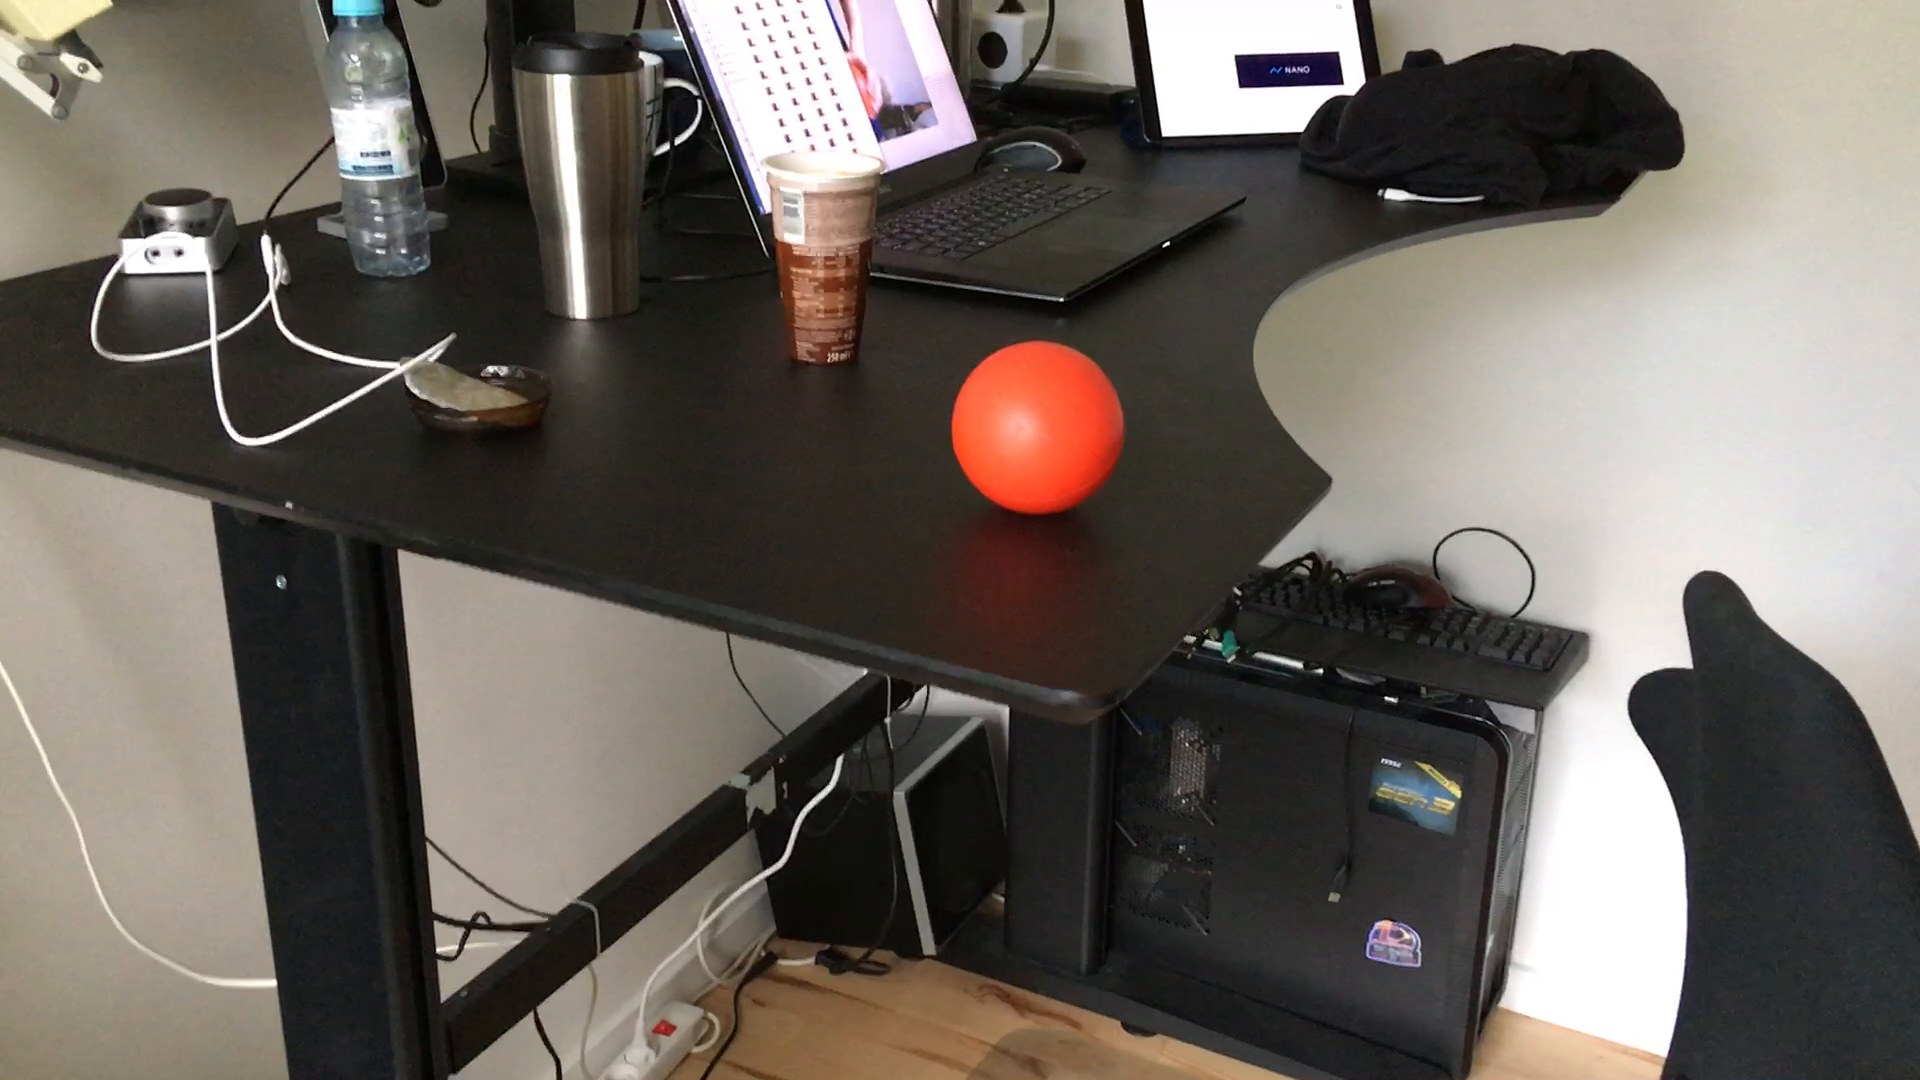Ball: (949, 342, 1133, 520)
